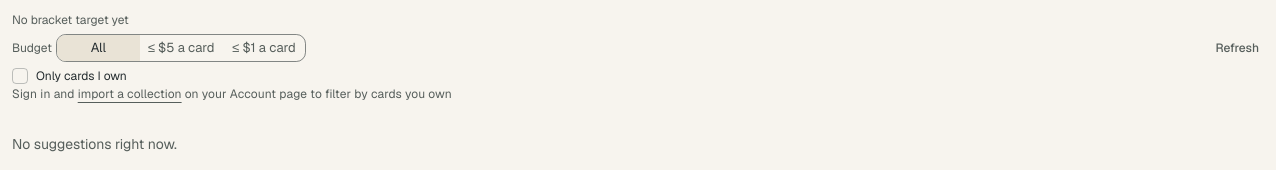
Test case: RecommendationsPanel — a saved deck (P3.2) › empty answers say why: nothing at All; nothing at a budget names the price and the way out
This screenshot has width=1276, height=170.
Expected: the text "No suggestions right now." is shown, [12,135,177,153]
Click the button "≤ $5 a card": (181, 48) [140,35,222,61]
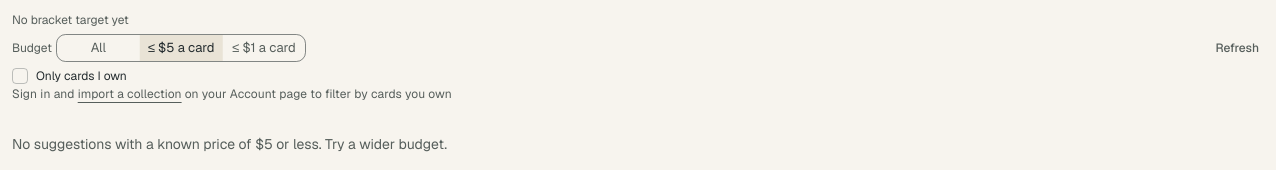
Expected: the text "No suggestions with a known price of $5 or less. Try a wider budget." is shown, [12,135,447,153]
